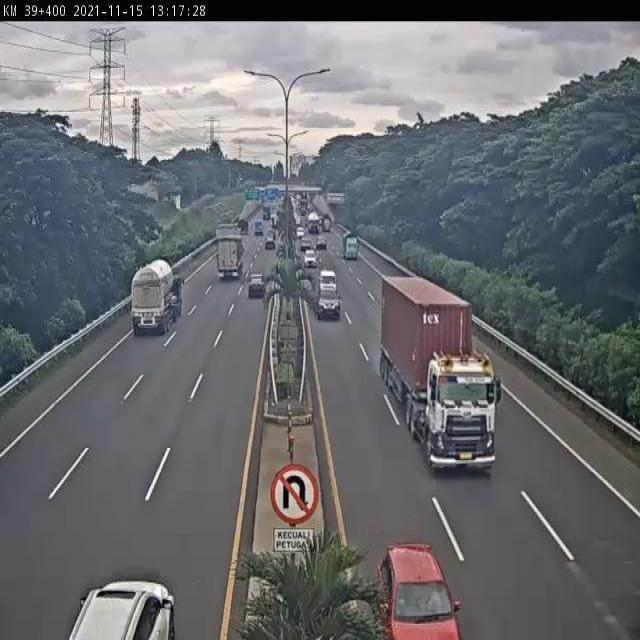bus-s-: (318, 267, 339, 293)
car: (316, 281, 343, 324), (245, 271, 268, 301)
truck-l-: (127, 260, 185, 337)
truck-m-: (215, 224, 246, 280), (342, 232, 361, 263)
truck-xl-: (370, 261, 507, 479)
